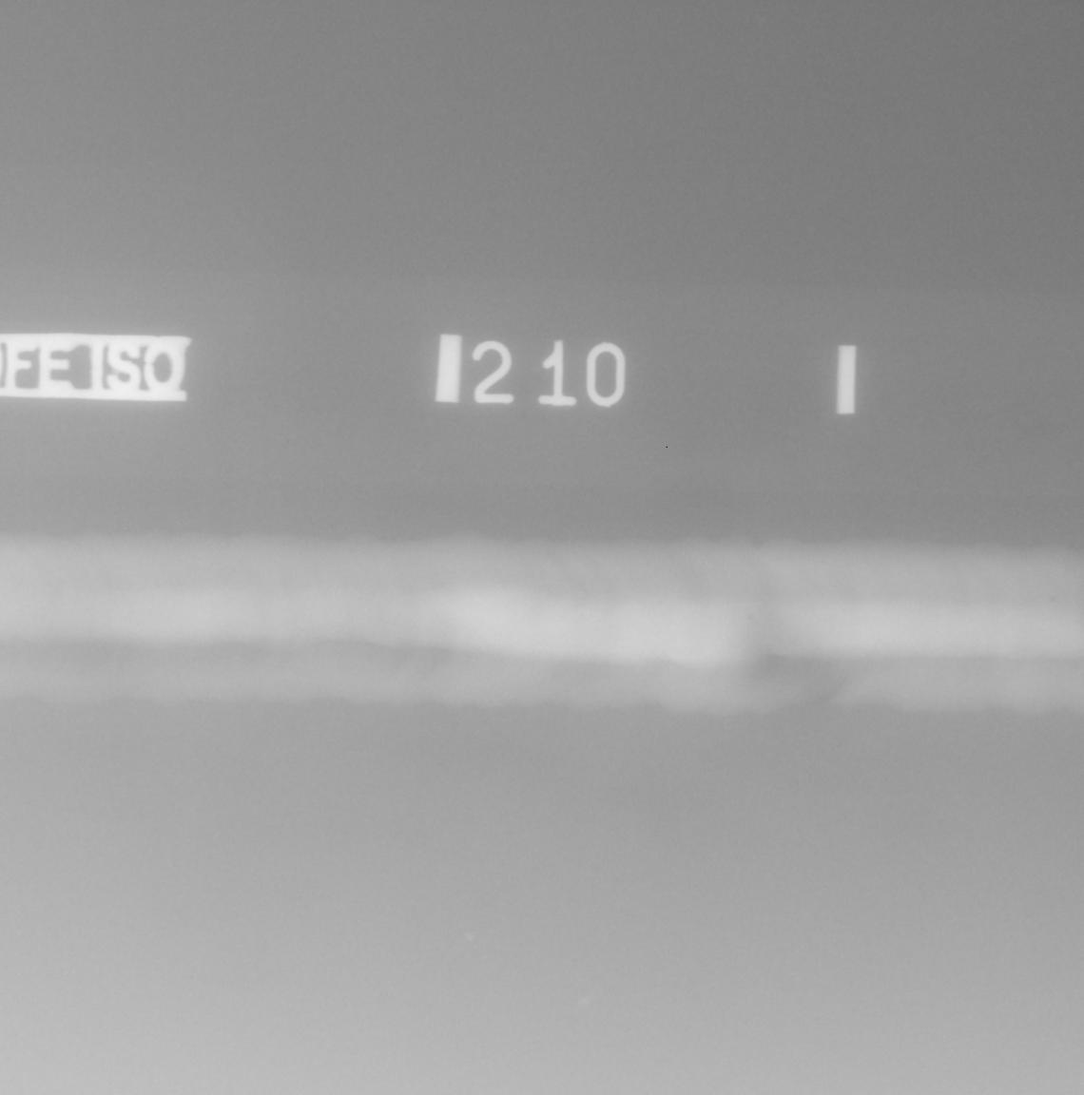Pore/Porosity: (1050, 597, 1055, 602), (748, 616, 752, 621)
